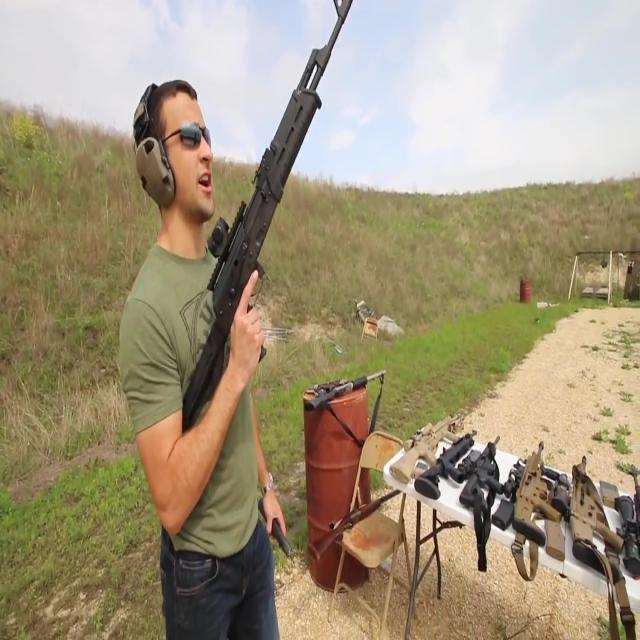Weapon: (149, 0, 337, 465), (379, 388, 640, 610), (285, 312, 397, 448), (291, 485, 413, 578)
